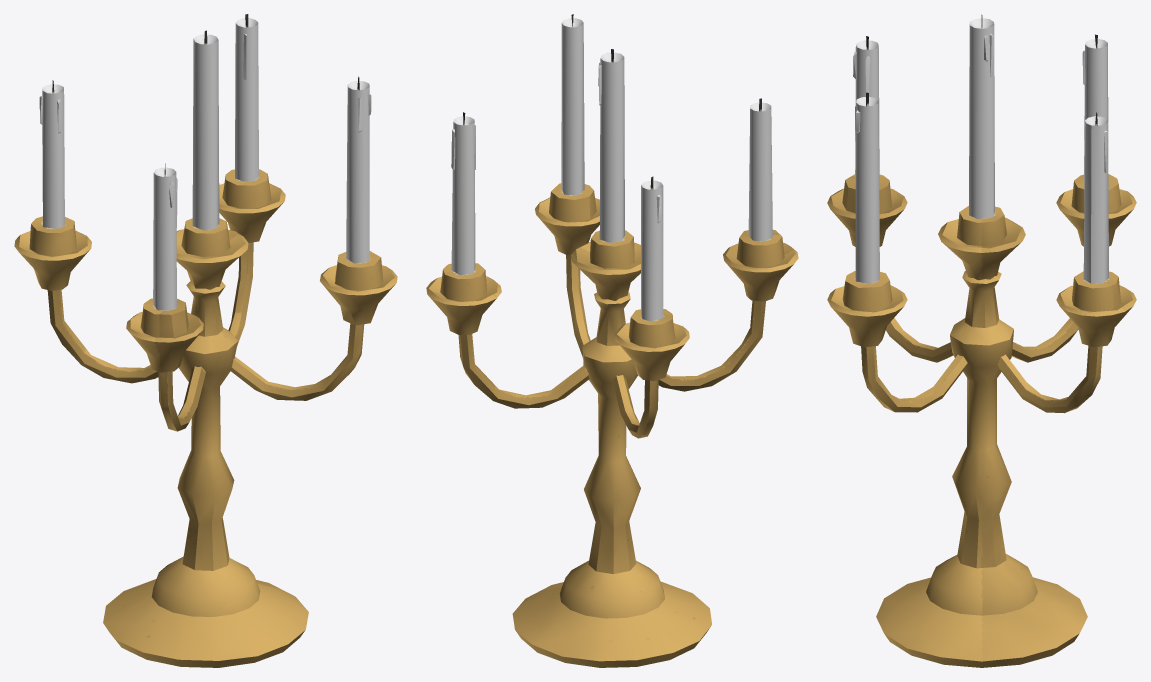
File: Candelabra.fbx
The picture shows the model from 3 angles, left to right: view 1: azimuth 30°, elevation 25°; view 2: azimuth 150°, elevation 25°; view 3: azimuth 270°, elevation 25°; orthographic projection. The views are drawn at different scales.
Visible parts, largest first — view 1: Candelabra; view 2: Candelabra; view 3: Candelabra.
Part boxes in pixels (x1=…): Candelabra: x1=14, y1=14, x2=397, y2=667; Candelabra: x1=426, y1=14, x2=798, y2=667; Candelabra: x1=827, y1=14, x2=1136, y2=667.
Size of the model in its own units: 0.2485 by 0.541 by 0.2485.
